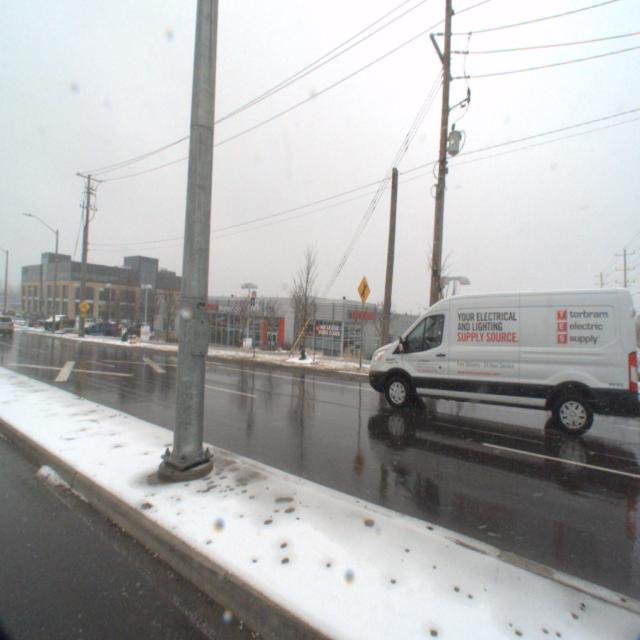Car: (73, 323, 121, 342)
